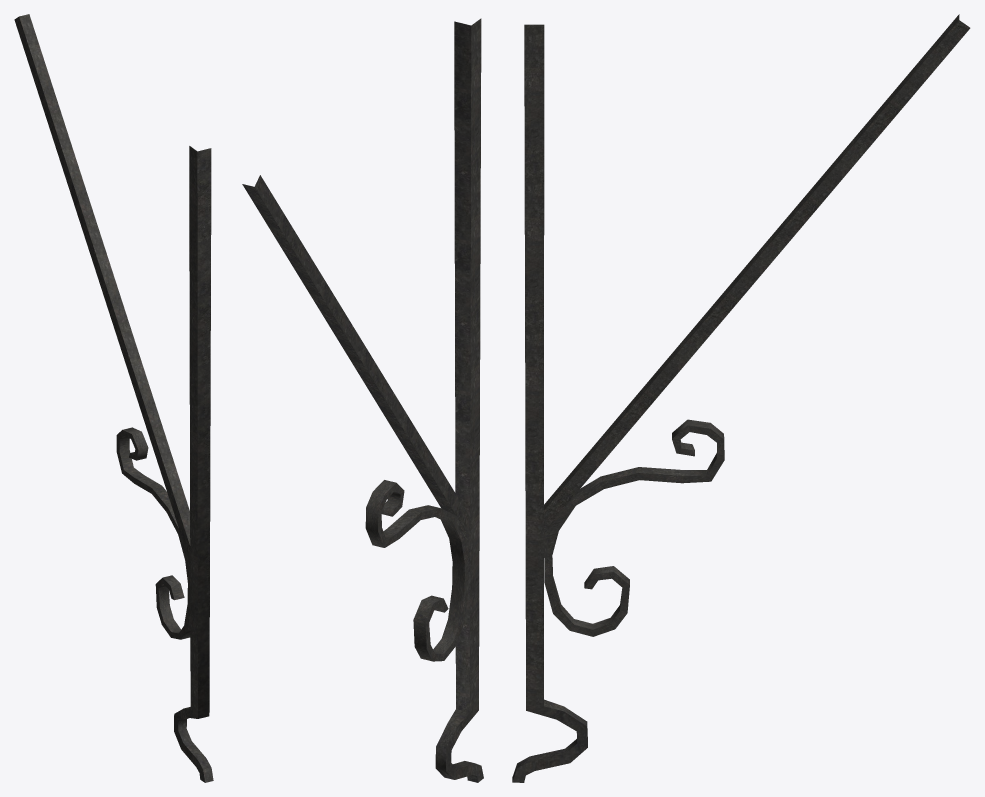
The model's file is caen_windowpulleyhook.glb.
The picture shows the model from 3 angles, left to right: view 1: azimuth 30°, elevation 25°; view 2: azimuth 150°, elevation 25°; view 3: azimuth 270°, elevation 25°; orthographic projection. The views are drawn at different scales.
Size of the model in its own units: 1.02 by 44.01 by 23.95.
1 material, 1 textured.
